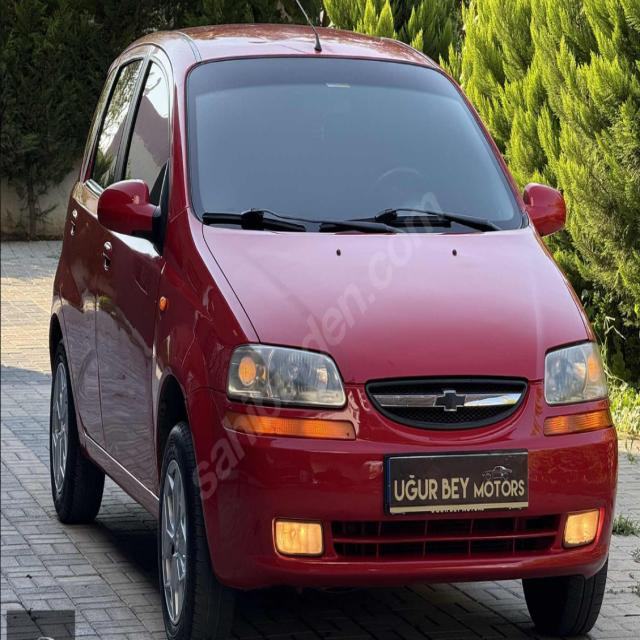chevrolet: (430, 386, 468, 418)
